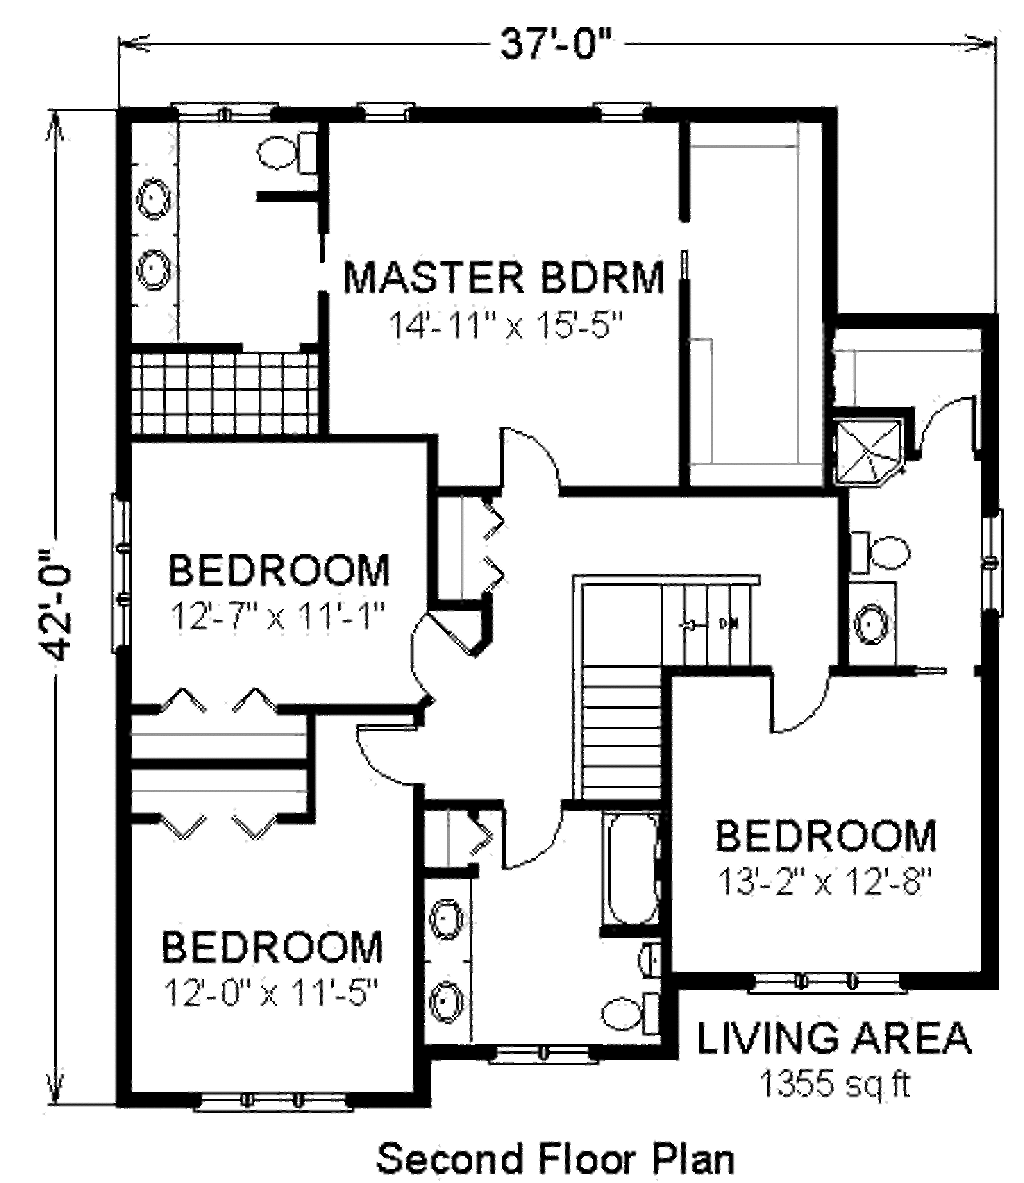door: (400, 610, 489, 701), (484, 797, 571, 872), (342, 715, 429, 788), (478, 422, 566, 490), (909, 390, 986, 459), (762, 670, 826, 734)
large_sink: (826, 510, 918, 579), (255, 135, 337, 184), (602, 992, 669, 1043)
small_sink: (420, 886, 477, 1050), (124, 175, 189, 314), (849, 574, 902, 666)
stairs: (564, 554, 755, 799)
tub: (591, 799, 671, 934)
window: (753, 961, 917, 1003), (98, 494, 138, 652), (186, 1083, 362, 1117), (167, 94, 286, 132), (475, 1037, 600, 1066), (975, 508, 1007, 614), (344, 90, 417, 132), (584, 90, 649, 134)
